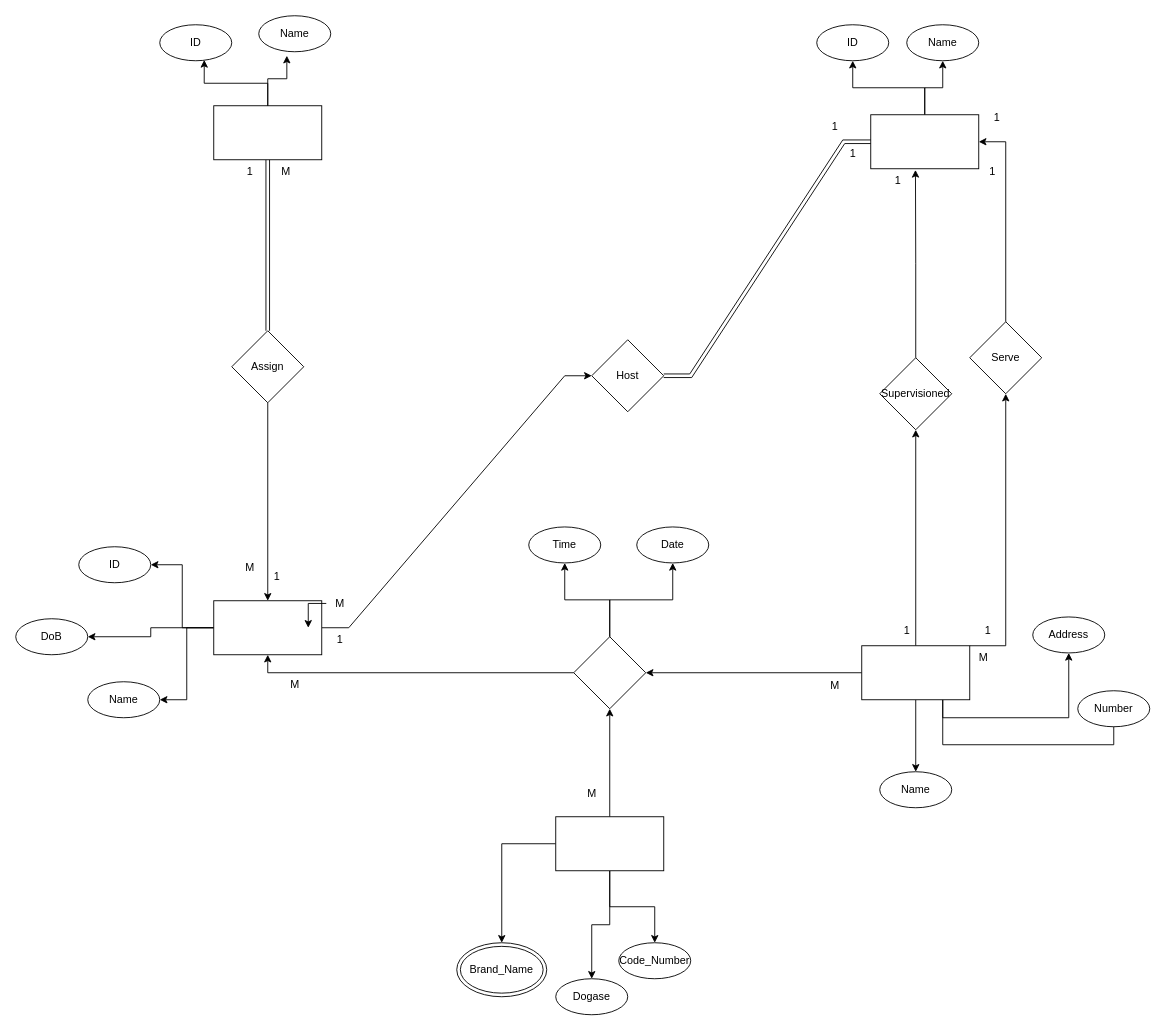
Image size: 1166x1031. Some labels were removed from this diagram. Each missing label, with the centre of its shape:
"Consultant" goes at (x=267, y=132).
"Drug" goes at (x=609, y=843).
"Nurse" goes at (x=915, y=672).
"Patient" goes at (x=267, y=627).
"Record" goes at (x=609, y=672).
"Ward" goes at (x=924, y=141).
